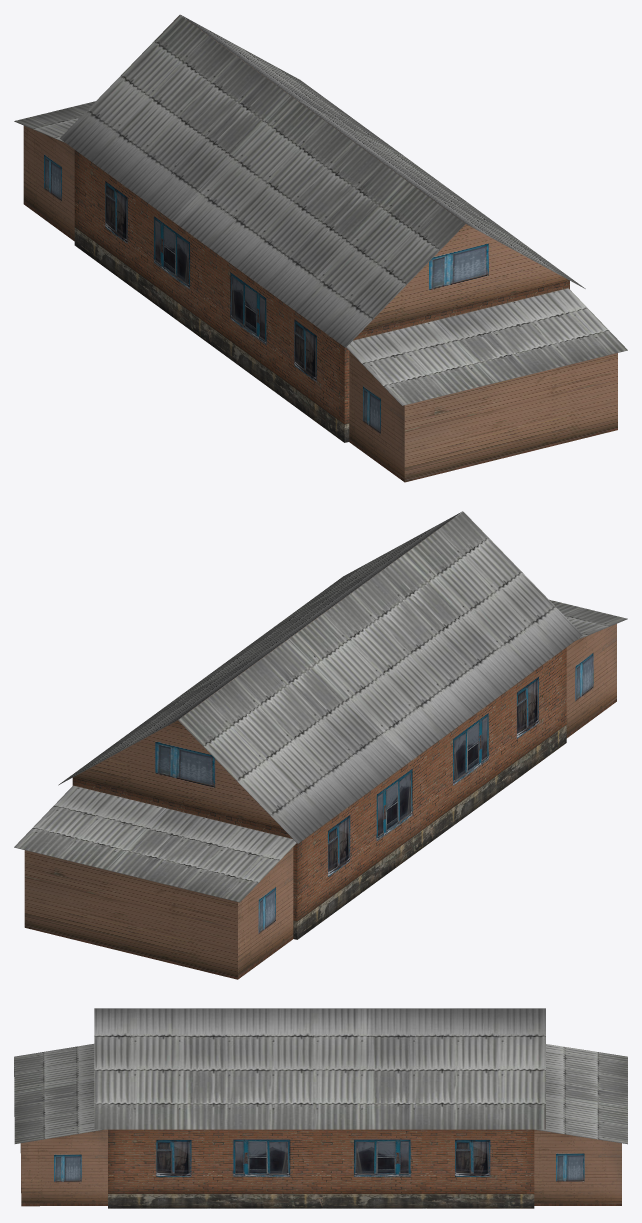
File: r402_tukalinsk_dom3.FBX
3 views of the same model, one above another, from view 1: azimuth 30°, elevation 25°; view 2: azimuth 150°, elevation 25°; view 3: azimuth 270°, elevation 25° (orthographic). The views are drawn at different scales.
Visible parts, largest first — view 1: r402_tukalinsk_dom3; view 2: r402_tukalinsk_dom3; view 3: r402_tukalinsk_dom3.
Part boxes in pixels (bbox=[...]): r402_tukalinsk_dom3: bbox=[14, 14, 627, 482]; r402_tukalinsk_dom3: bbox=[14, 511, 627, 979]; r402_tukalinsk_dom3: bbox=[14, 1008, 627, 1208].
Size of the model in its own units: 924 by 2585 by 729.
